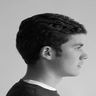ear: (38, 43, 56, 63)
